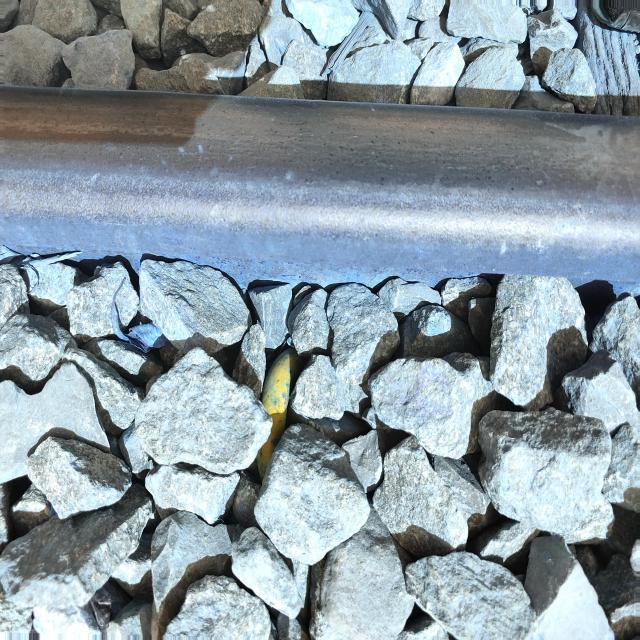Good Fasteners: (257, 348, 300, 480)
